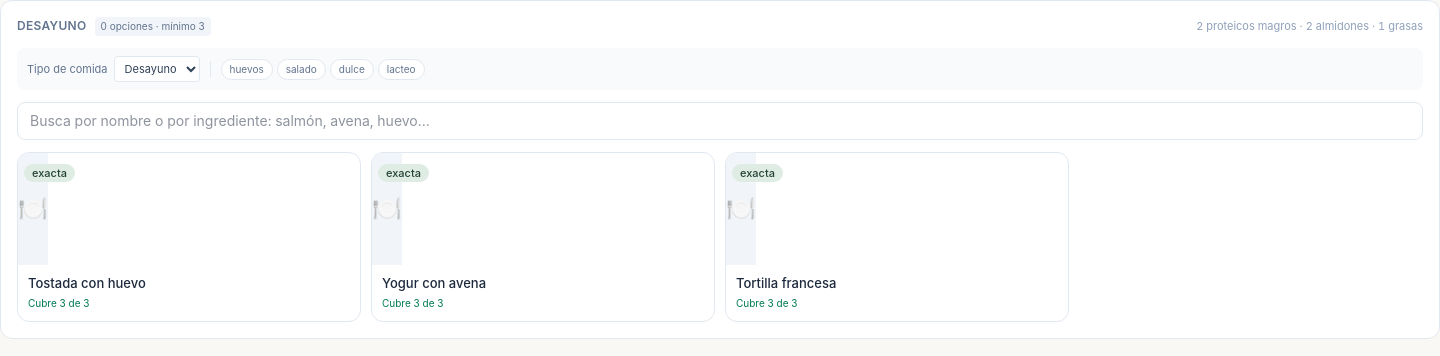
Filtrar las recetas al pautar › «quitar filtros» las devuelve todas
The width and height of the screenshot is (1440, 356).
Click the button "dulce": [352, 69] box [330,58,374,80]
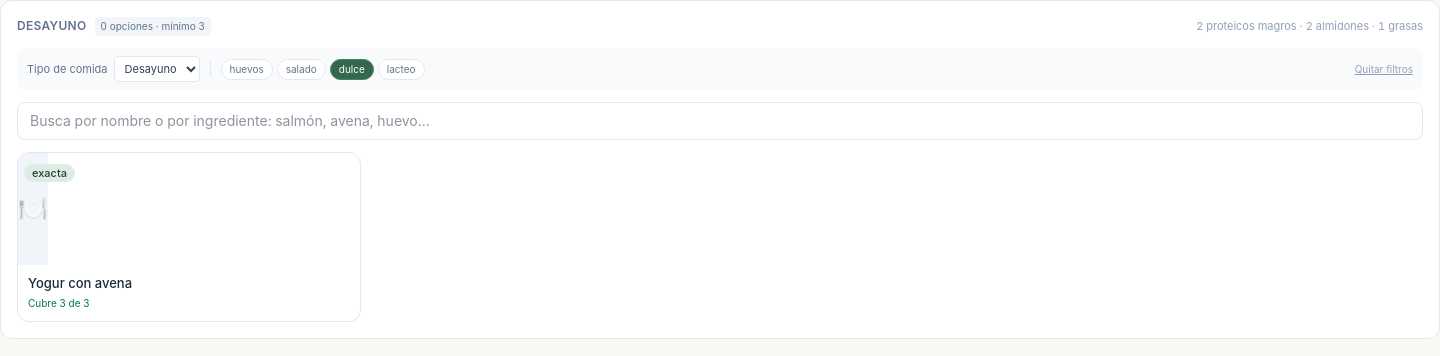
Click the button "Quitar filtros": [1384, 69] box [1355,62,1413,76]
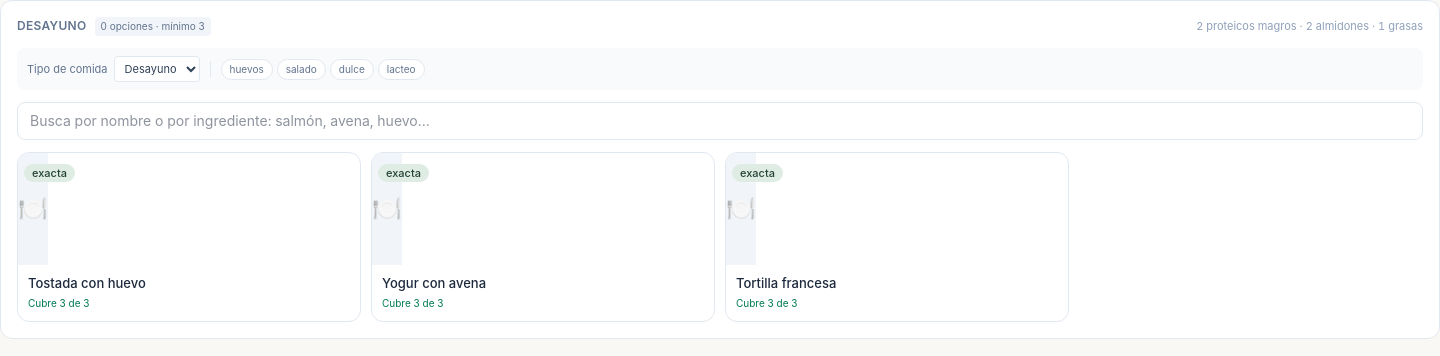
Expected: the text "Yogur con avena" is shown, [382,275,486,293]
Now the text "Tostada con huevo" is shown, box [28,275,146,293]
